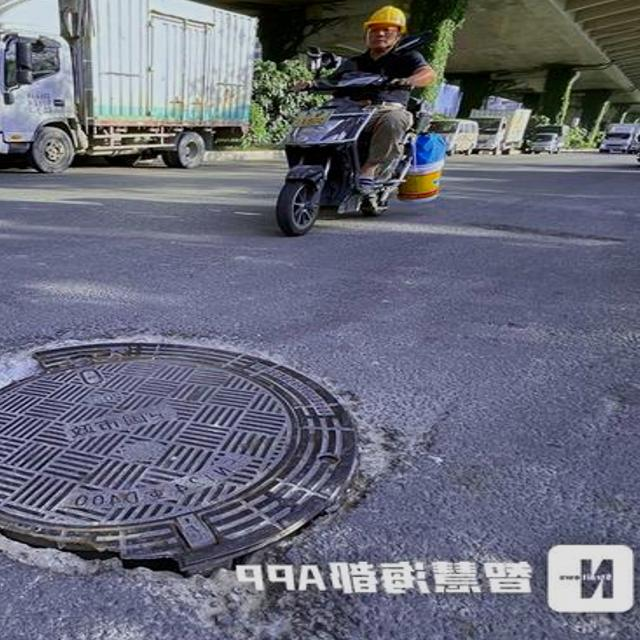circle: (0, 302, 451, 604)
